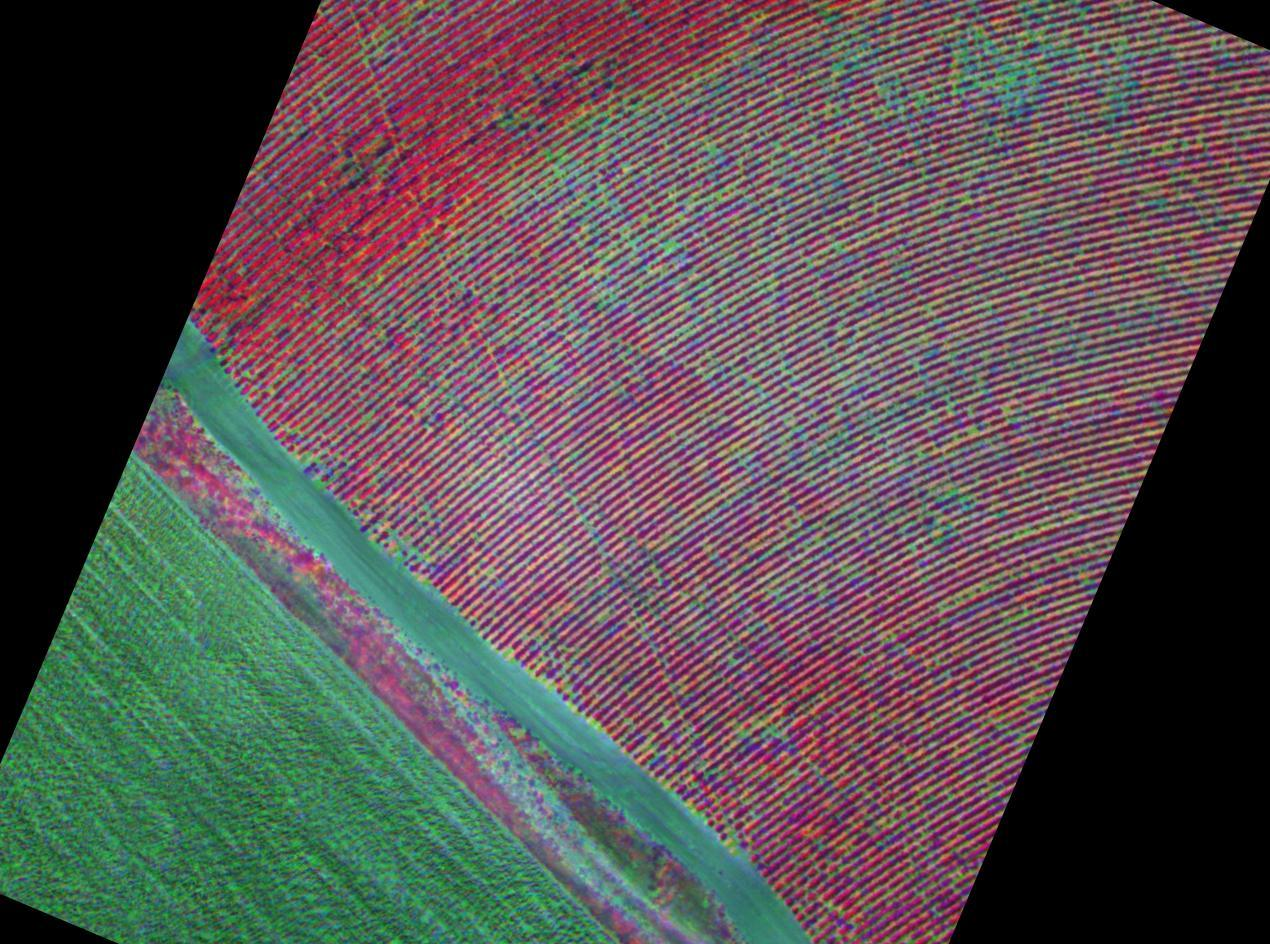dc: (594, 267, 599, 272), (970, 428, 975, 432), (665, 243, 669, 247), (548, 363, 551, 367), (1121, 40, 1124, 44), (778, 147, 781, 150), (448, 393, 451, 396), (880, 89, 883, 92)
